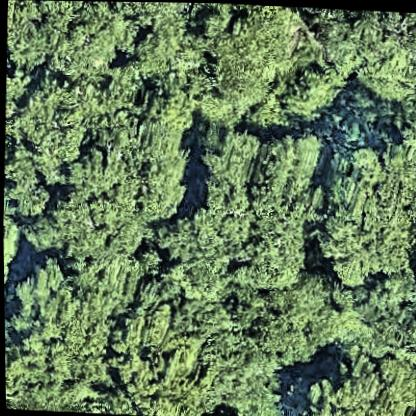tree-top: (3, 243, 119, 409), (201, 264, 338, 385), (315, 140, 416, 282), (232, 119, 329, 257), (109, 294, 200, 416), (195, 6, 309, 102), (48, 154, 147, 260), (13, 70, 106, 174), (134, 215, 232, 307), (323, 11, 416, 99), (197, 122, 274, 227), (34, 0, 131, 82), (298, 351, 415, 416), (349, 271, 416, 352), (127, 14, 203, 82), (4, 54, 26, 123), (2, 204, 21, 282)
